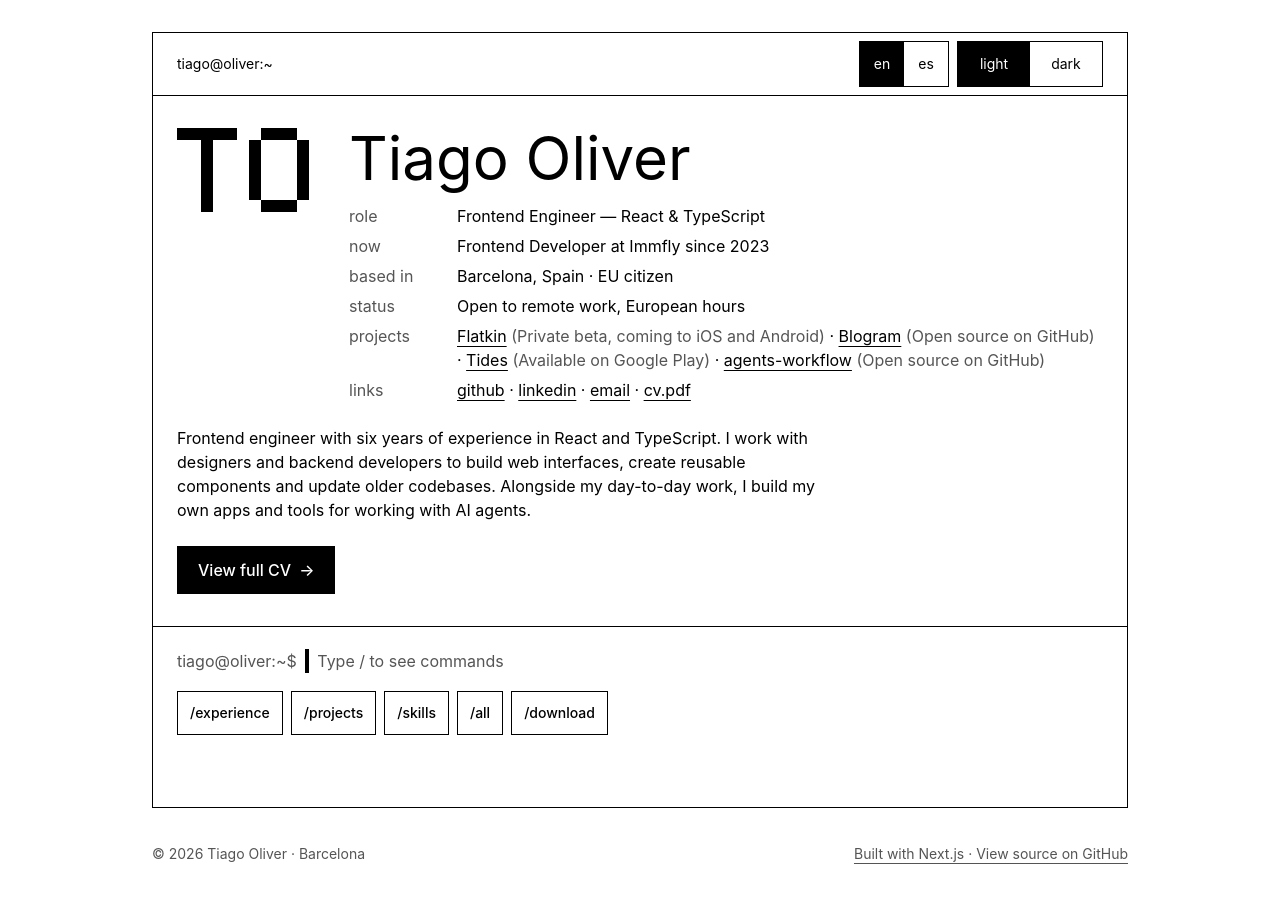
Test: HomePage › Given the first screen, should keep the portrait for the about output only
Type "about" into the dropdown named "Command". click: [704, 661]
box: [305,639,1103,683]
Then press Enter
(page scrolled)
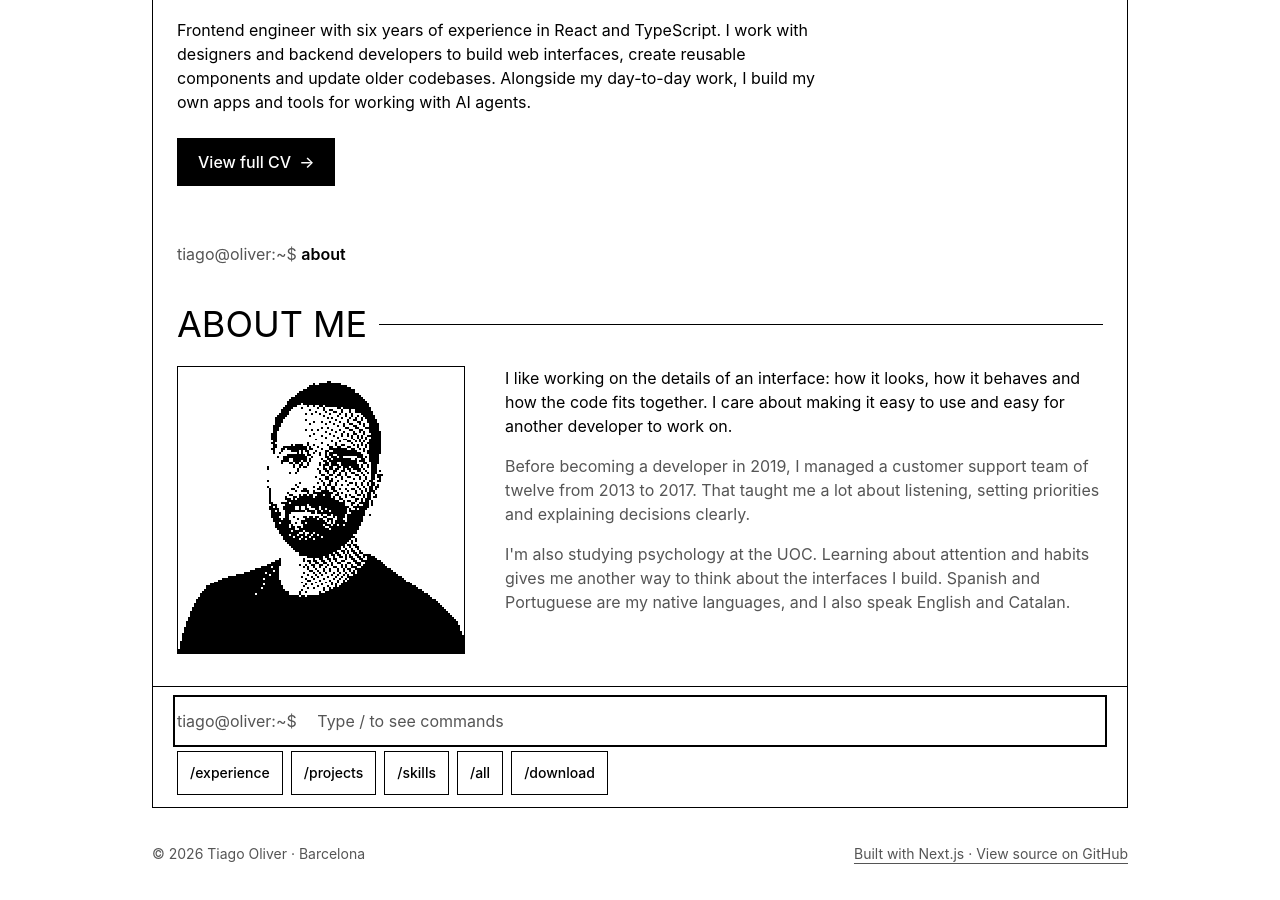
Now the picture named "Portrait of Tiago Oliver" is shown, box [177,366,465,654]
